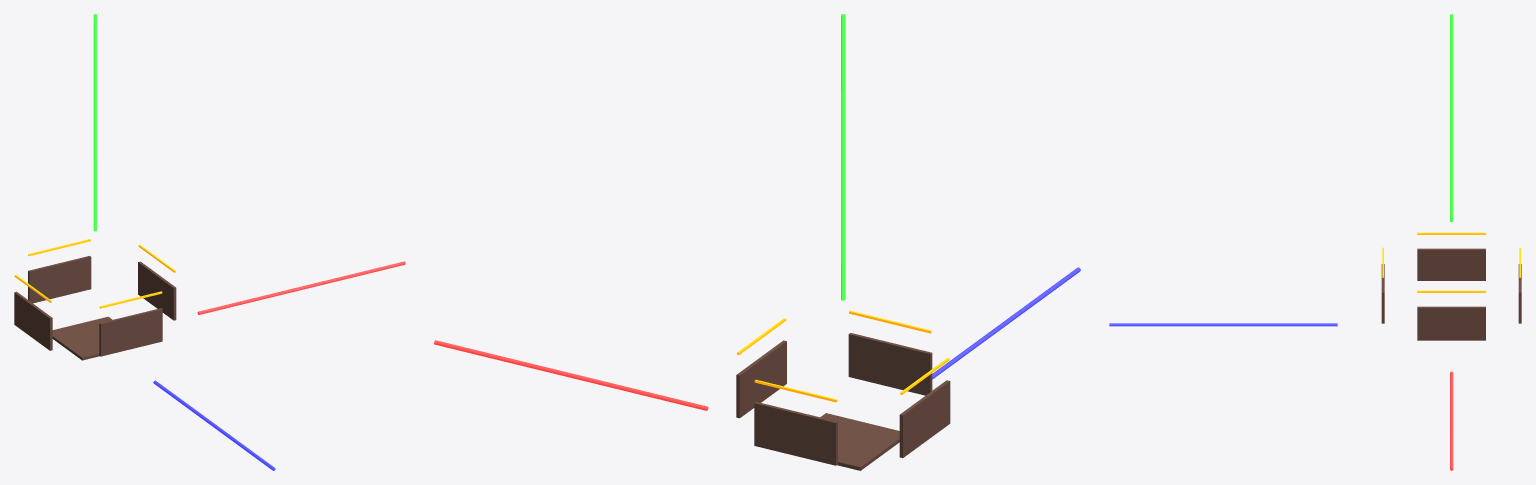
The model's file is optimization-box.glb.
3 views of the same model, side by side, from view 1: azimuth 30°, elevation 25°; view 2: azimuth 150°, elevation 25°; view 3: azimuth 270°, elevation 25° (orthographic). The views are drawn at different scales.
Bounding box in the file's own units: 1.81 × 1.51 × 1.81.
